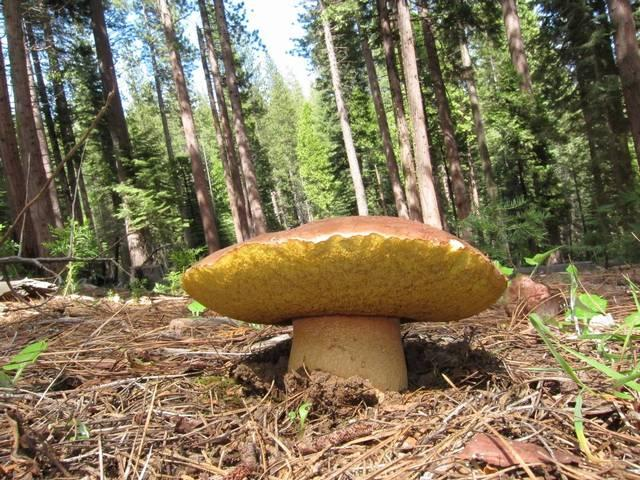Edible Mushroom: (180, 213, 508, 392)
